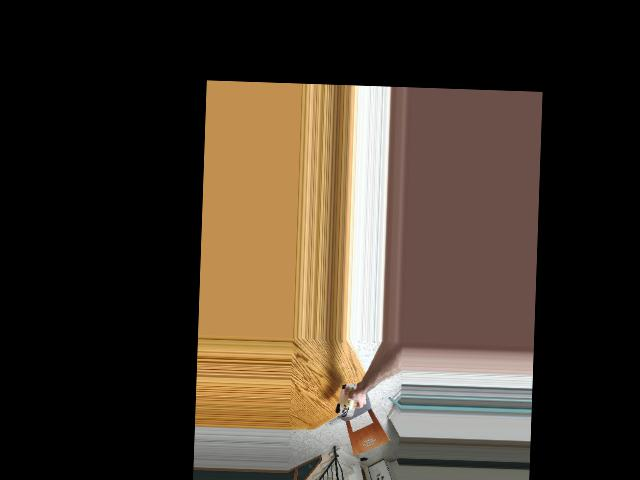cheese: (335, 382, 358, 416)
